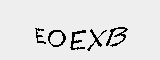В: (107, 24, 129, 49)
Е: (70, 29, 86, 52), (33, 25, 45, 46)
О: (48, 29, 65, 48)
Х: (86, 27, 105, 49)
